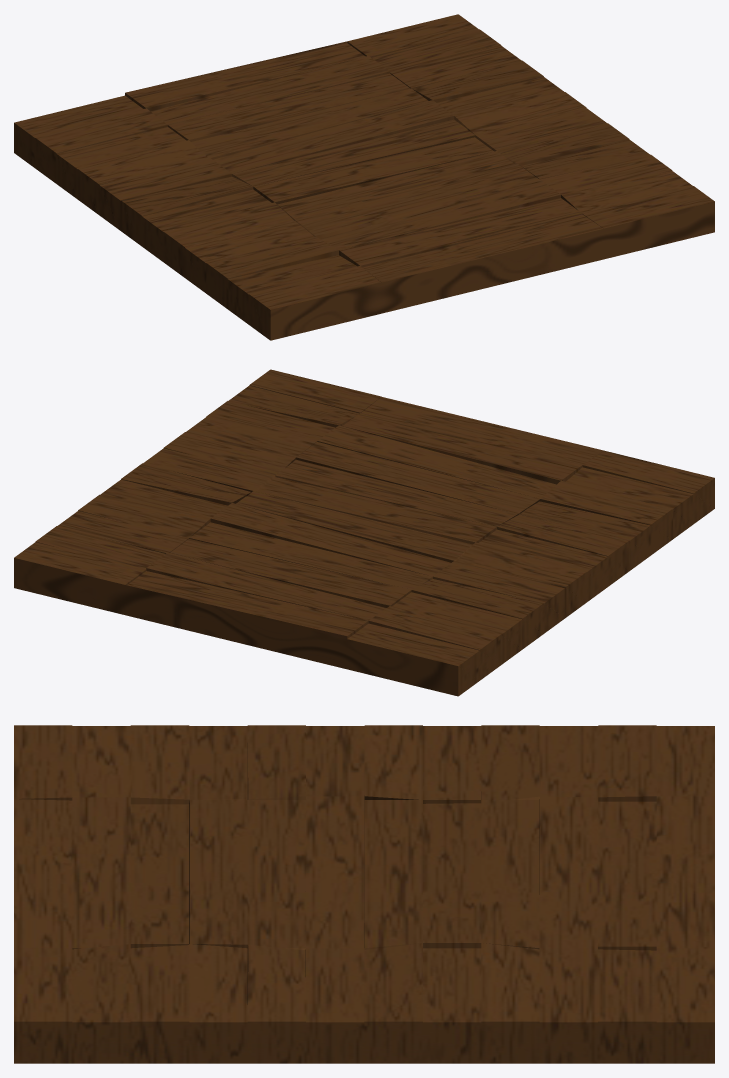
The model's file is Pentacles_Floor_Basic.fbx.
3 views of the same model, one above another, from view 1: azimuth 30°, elevation 25°; view 2: azimuth 150°, elevation 25°; view 3: azimuth 270°, elevation 25° (orthographic). The views are drawn at different scales.
Visible parts, largest first — view 1: Floor basic; view 2: Floor basic; view 3: Floor basic.
Boxes of the visible parts, bbox=[...] form: Floor basic: bbox=[14, 14, 714, 340]; Floor basic: bbox=[14, 369, 714, 696]; Floor basic: bbox=[14, 725, 714, 1063].
Size of the model in its own units: 416 by 30.54 by 416.
